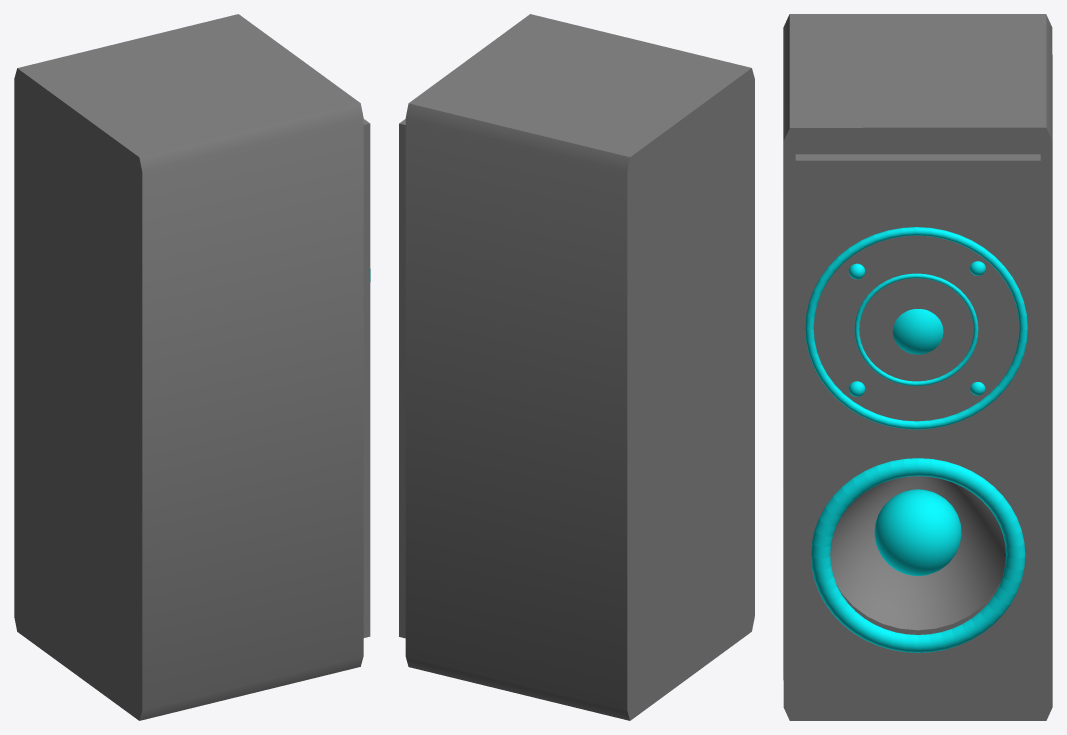
The model's file is Speakers.glb.
The picture shows the model from 3 angles, left to right: view 1: azimuth 30°, elevation 25°; view 2: azimuth 150°, elevation 25°; view 3: azimuth 270°, elevation 25°; orthographic projection. The views are drawn at different scales.
Visible parts, largest first — view 1: Speaker; view 2: Speaker; view 3: Speaker, Circle, Torus, Sphere, Torus.004, Torus.002, Sphere.005.
Part boxes in pixels (bbox=[...]): Speaker: bbox=[14, 14, 370, 720]; Speaker: bbox=[399, 14, 754, 720]; Speaker: bbox=[783, 14, 1052, 720]; Circle: bbox=[813, 235, 1019, 421]; Torus: bbox=[811, 458, 1025, 652]; Sphere: bbox=[874, 489, 961, 575]; Torus.004: bbox=[805, 227, 1027, 429]; Torus.002: bbox=[854, 273, 978, 385]; Sphere.005: bbox=[892, 309, 943, 354].
Bounding box in the file's own units: 2.22 × 4.86 × 2.
